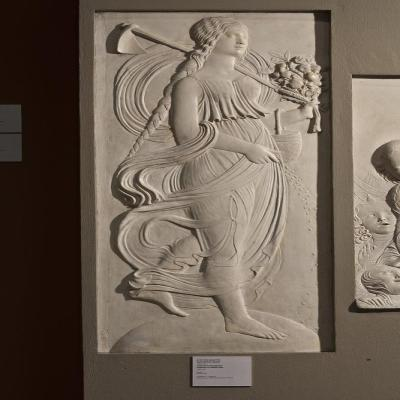sculpture: (88, 11, 334, 358)
